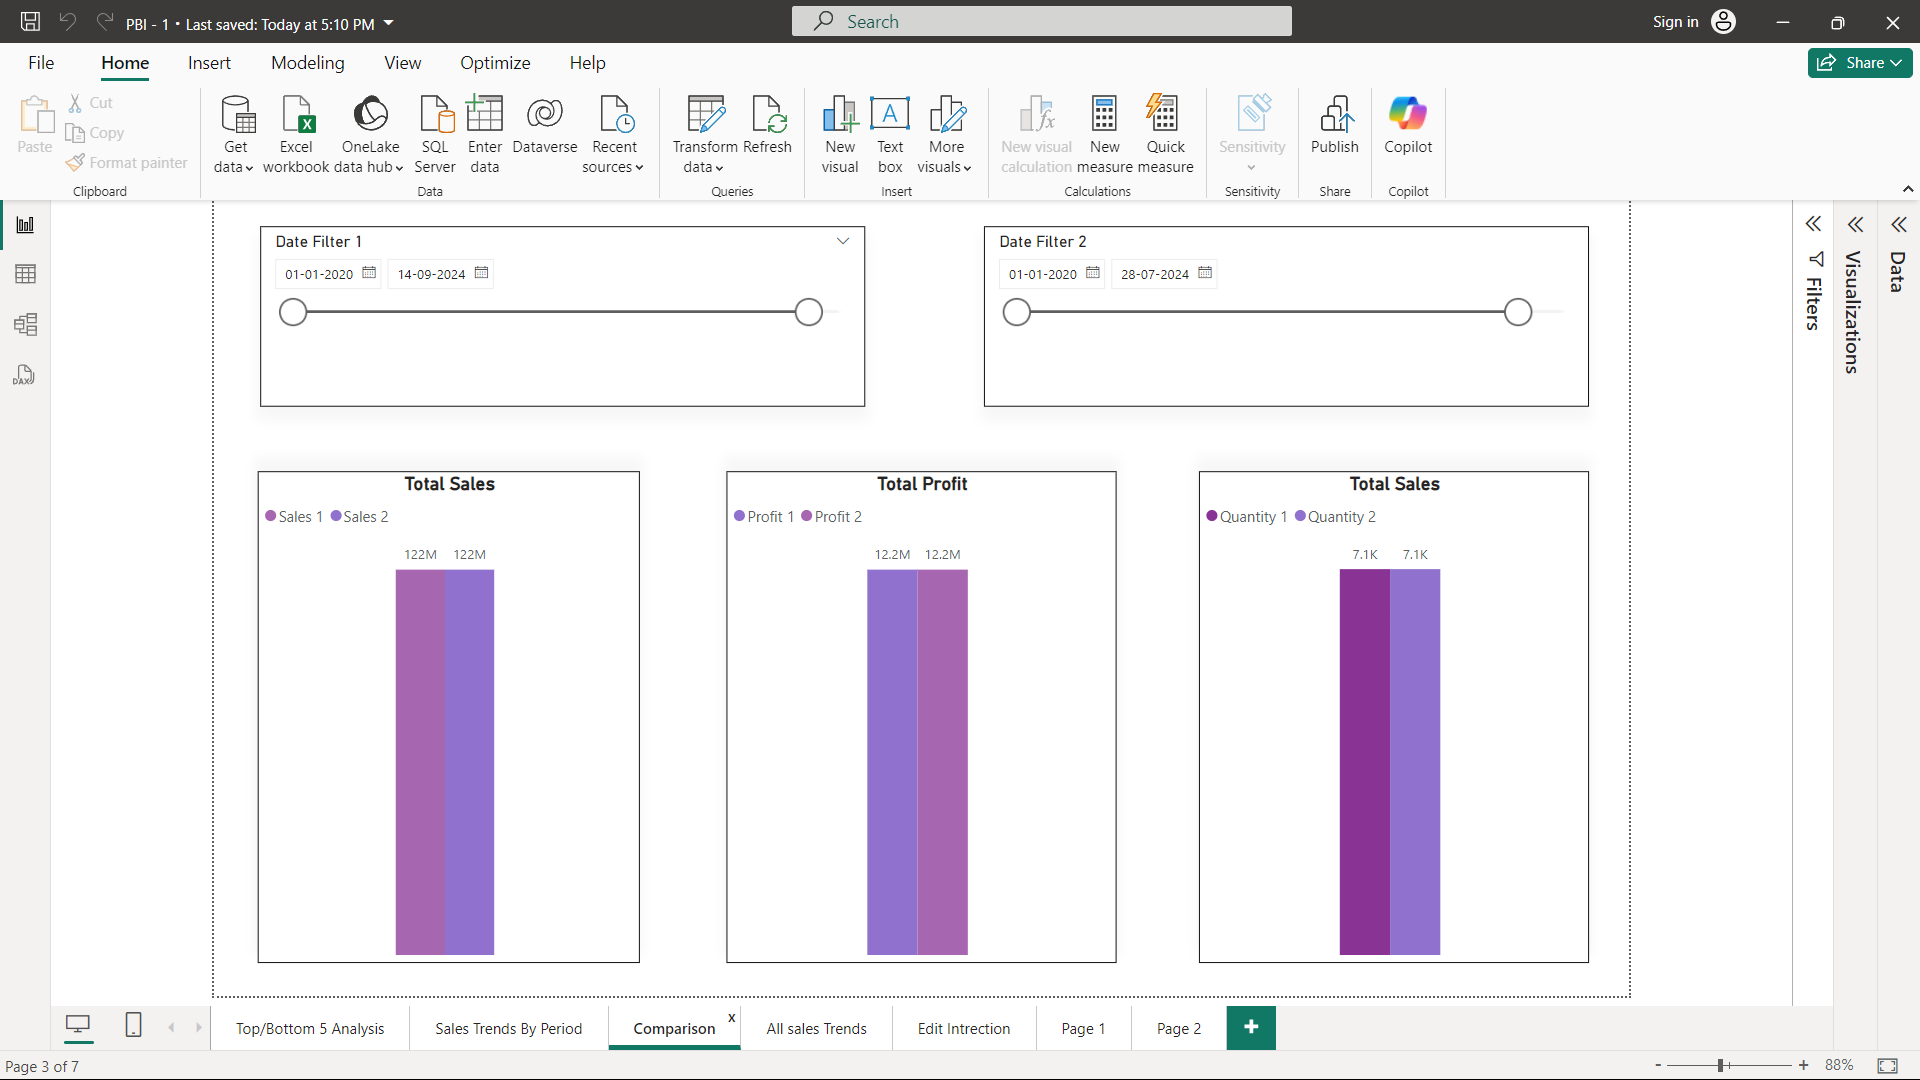

What the dashboard file says about the page in this screenshot:
{"tool":"powerbi","page":{"name":"Comparison ","canvas":[1280,720],"ordinal":2},"visuals":[{"type":"slicer","fields":{"Values":["Date Table 1.Date"]},"box":[42.4,23.5,547.1,163.5],"z":0},{"type":"slicer","fields":{"Values":["Date Table 2.Date"]},"box":[696.5,23.5,547.1,163.5],"z":1000},{"type":"clusteredColumnChart","title":"Total Sales","fields":{"Y":["Sum(Fact Table.Net Sales)","Date Table 1.Sum of net sales"]},"box":[40,245.9,345.9,444.7],"z":2000},{"type":"clusteredColumnChart","title":"Total Profit","fields":{"Y":["Sum(Fact Table.Profit)","Measures Table.Total Profit"]},"box":[463.5,245.9,352.9,444.7],"z":3000},{"type":"clusteredColumnChart","title":"Total Sales","fields":{"Y":["Sum(Fact Table.Units Sold)","Measures Table.Quantity sold"]},"box":[890.6,245.9,352.9,444.7],"z":4000}]}

Visuals, with their boxes on the page's 1280x720 design canvas (x1, y1, x2, y2). These are canvas units, not pixel positions in the 1920x1080 screenshot, which may show the page scaled, cropped or inside an application window:
slicer - Date Table 1.Date: 42:24:590:187
slicer - Date Table 2.Date: 696:24:1244:187
"Total Sales" clusteredColumnChart: 40:246:386:691
"Total Profit" clusteredColumnChart: 464:246:816:691
"Total Sales" clusteredColumnChart: 891:246:1244:691
